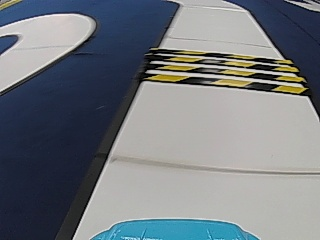bump: (163, 50, 282, 89)
